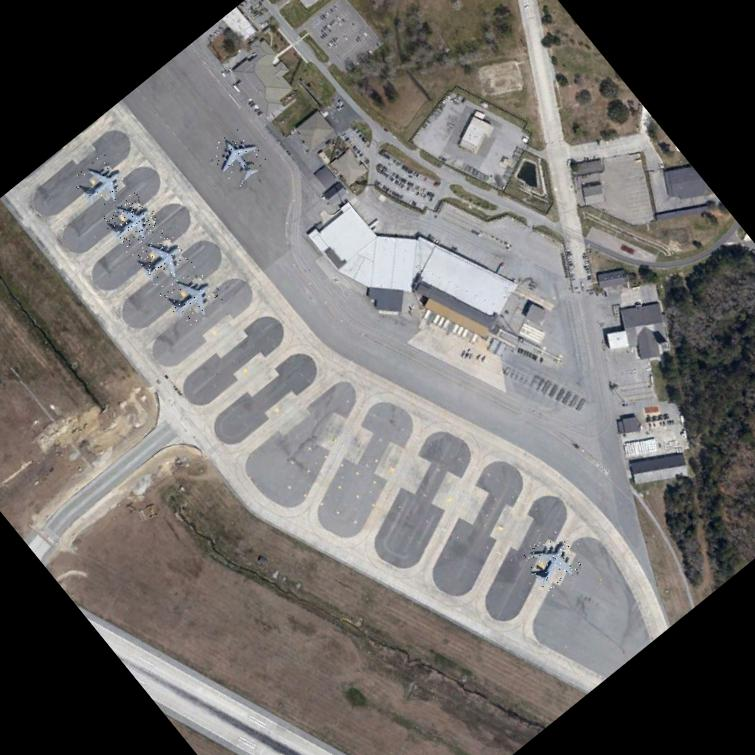A3: (99, 189, 163, 253), (130, 226, 194, 290), (519, 529, 583, 593), (206, 124, 269, 188), (159, 265, 222, 328), (70, 152, 133, 214)
